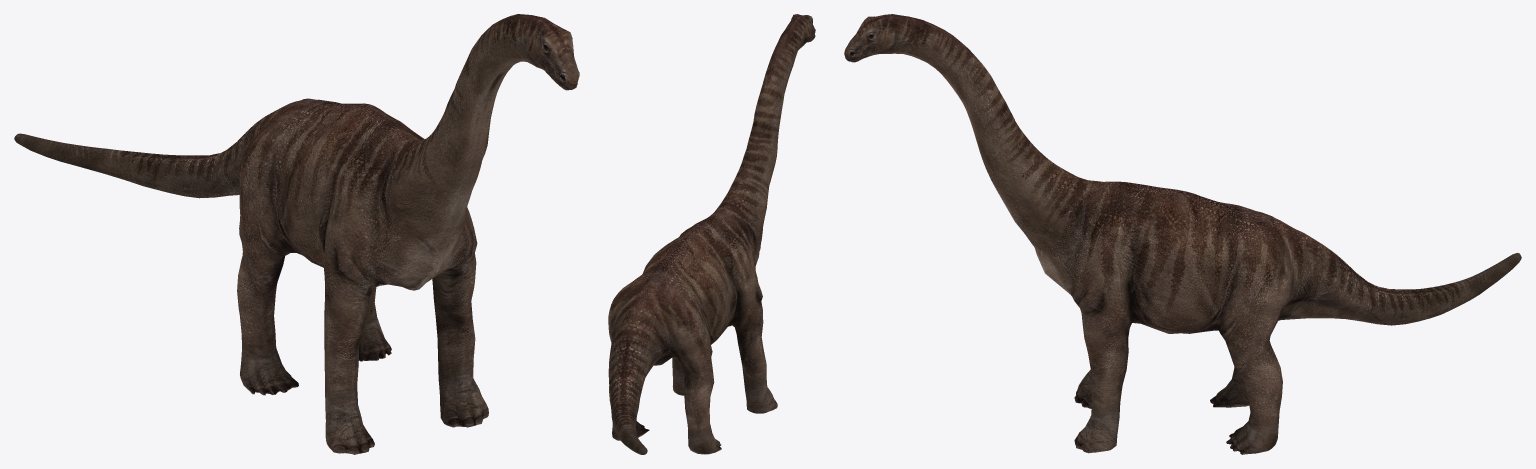
File: brontosaurus.glb
The picture shows the model from 3 angles, left to right: view 1: azimuth 30°, elevation 25°; view 2: azimuth 150°, elevation 25°; view 3: azimuth 270°, elevation 25°; orthographic projection. The views are drawn at different scales.
Parts seen in each view (by area): view 1: Bronto_HP_0; view 2: Bronto_HP_0; view 3: Bronto_HP_0.
Part boxes in pixels (x1,y1,x2,y2): Bronto_HP_0: (14,14,579,454); Bronto_HP_0: (608,14,815,454); Bronto_HP_0: (844,14,1521,454).
Bounding box in the file's own units: 0.1068 × 0.2412 × 0.3559.
1 material, 1 textured.
